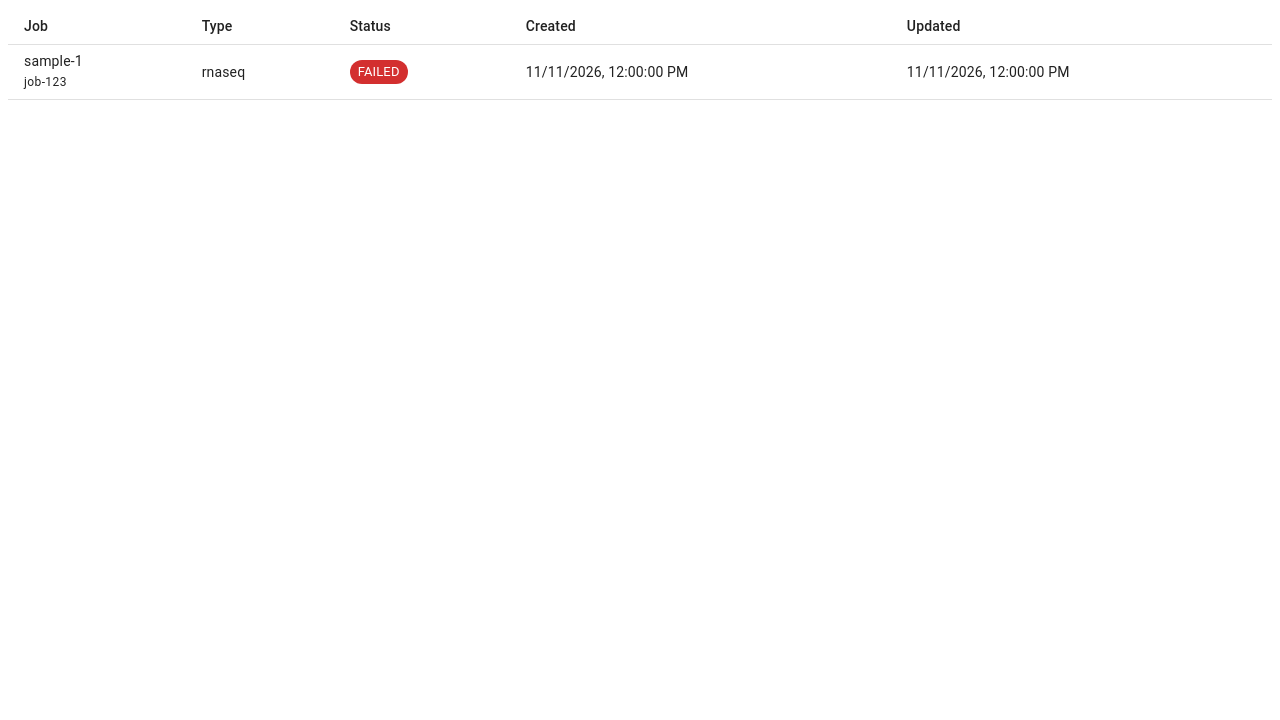
Test: table detail modals › opens complete job details from a row, including dashboard tables
This screenshot has width=1280, height=720.
Later steps or results of the test are not shown.
Step 1. Click the button with aria-label "View job job-123" → (640, 72), box [8,44,1272,99]
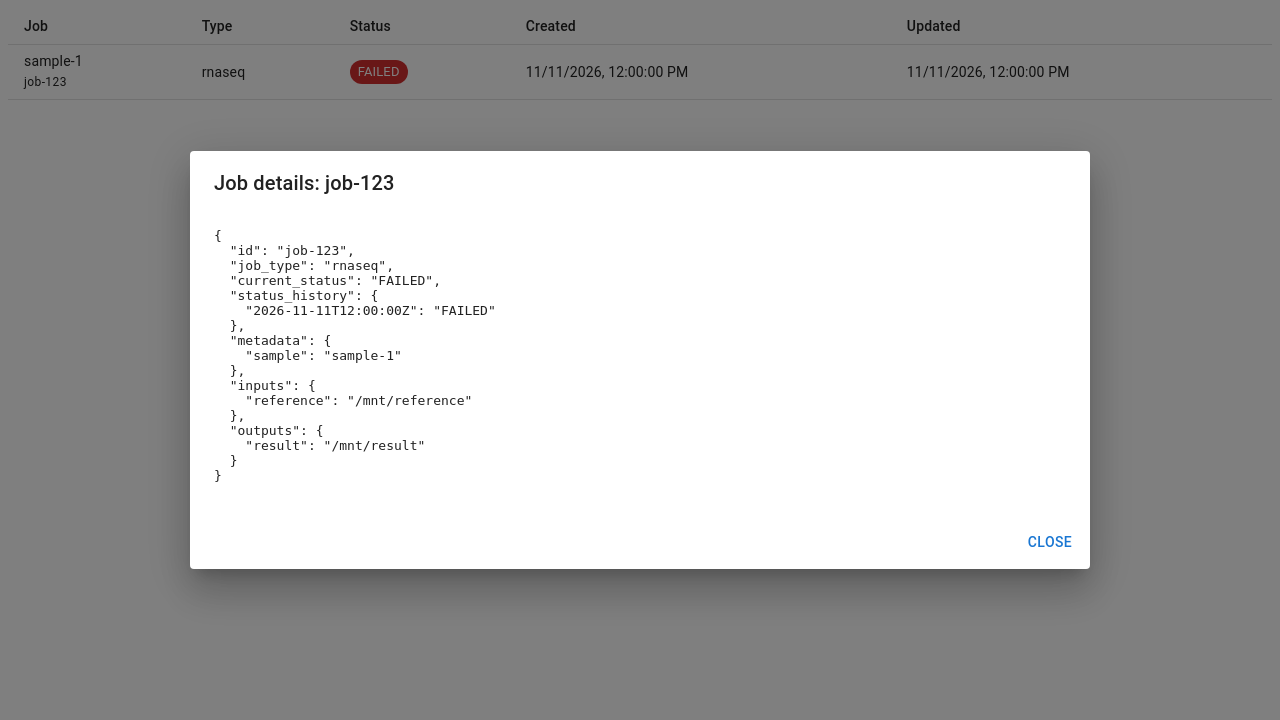
expect the dialog shows "/mnt/reference": met, box [214,228,496,483]
expect the dialog shows "/mnt/result": met, box [214,228,496,483]
expect the dialog shows "status_history": met, box [214,228,496,483]
